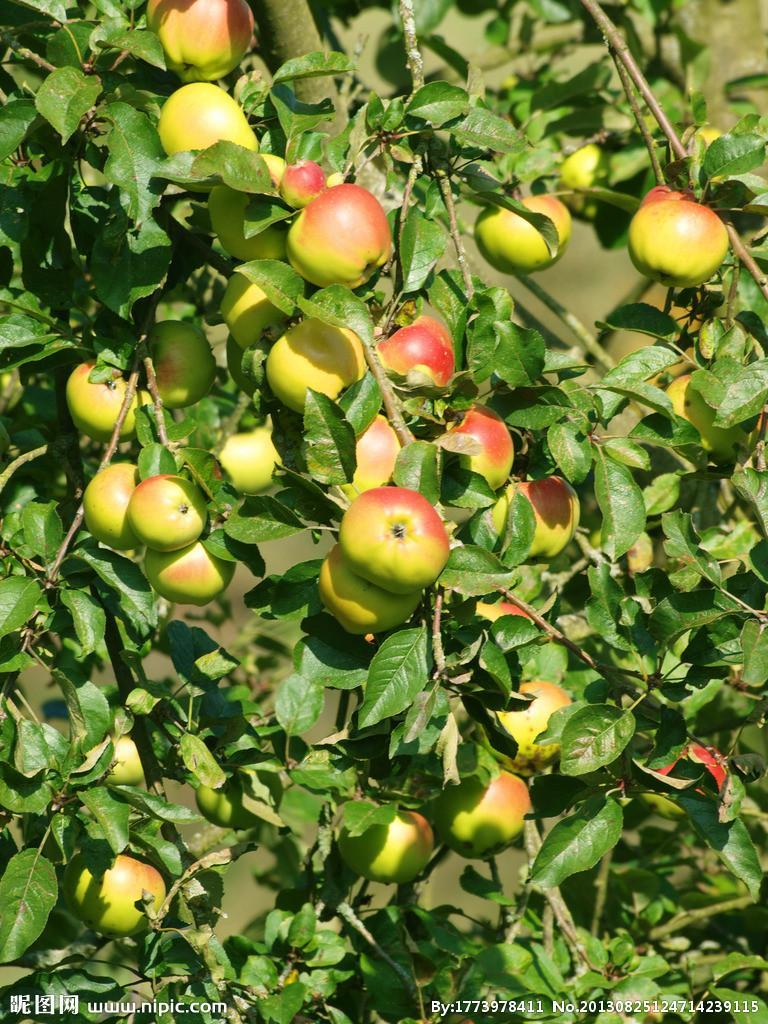apple: (337, 487, 450, 595), (286, 184, 394, 287), (626, 188, 726, 287), (66, 843, 168, 936), (268, 322, 367, 411), (470, 191, 570, 276), (335, 800, 435, 885), (158, 82, 263, 162), (149, 1, 254, 80), (439, 771, 531, 858), (488, 682, 580, 769), (137, 320, 217, 410), (328, 413, 399, 500), (62, 361, 139, 441), (127, 473, 203, 552), (438, 407, 513, 487), (145, 537, 232, 605), (506, 478, 577, 557), (82, 461, 140, 550), (376, 321, 453, 383), (275, 160, 329, 210)
